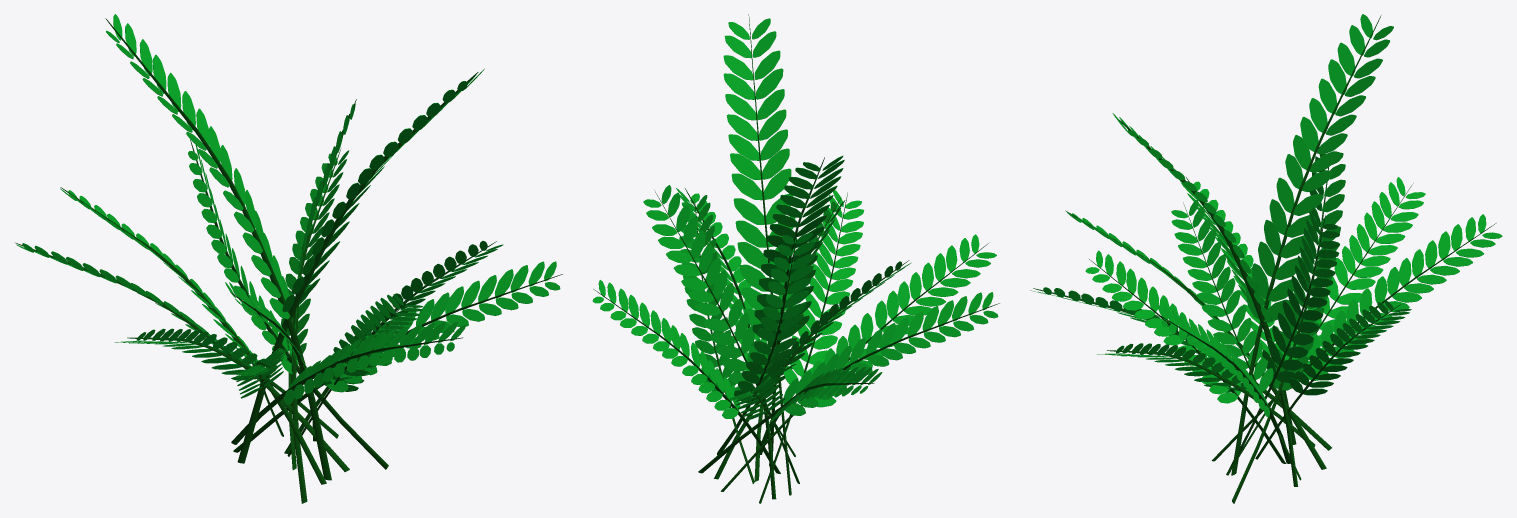
The model's file is Planta Pivote Brush2.fbx.
3 renders of one model, left to right at view 1: azimuth 30°, elevation 25°; view 2: azimuth 150°, elevation 25°; view 3: azimuth 270°, elevation 25°, orthographic. The views are drawn at different scales.
Visible parts, largest first — view 1: Plane.207; view 2: Plane.207; view 3: Plane.207.
Boxes of the visible parts, box(x1,y1,x2,y2) form: Plane.207: box(15, 14, 562, 503); Plane.207: box(592, 14, 999, 503); Plane.207: box(1030, 14, 1502, 503).
Bounding box in the file's own units: 48037 × 51937 × 54224.
